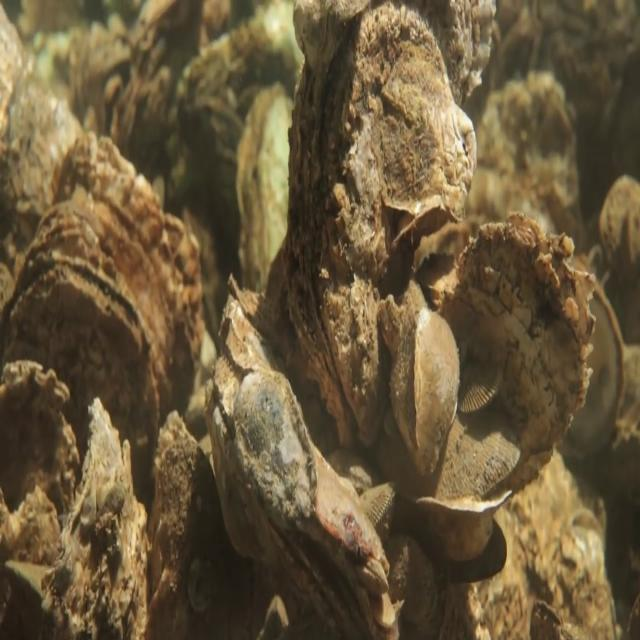Oyster-Closed: (284, 0, 480, 454), (0, 252, 166, 544), (204, 350, 364, 639), (437, 210, 598, 493), (38, 395, 141, 639), (142, 403, 245, 639), (220, 268, 342, 463), (0, 355, 79, 566), (234, 76, 294, 326), (389, 278, 462, 479), (384, 532, 439, 631), (458, 356, 504, 422), (350, 548, 392, 599), (354, 483, 396, 533)
Oyster-Indeterminate: (14, 127, 206, 424), (234, 365, 321, 528)
Oyster-Open: (406, 415, 520, 562)
